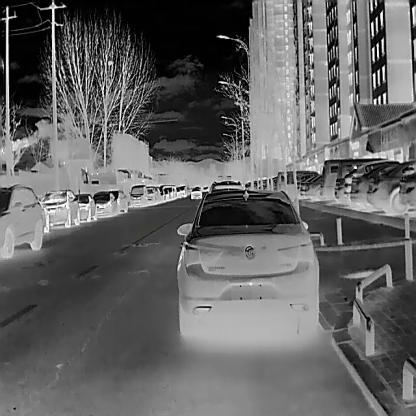car: (178, 184, 321, 339), (0, 186, 45, 259), (367, 160, 416, 215), (350, 163, 400, 203), (41, 189, 80, 227), (320, 158, 337, 196), (92, 193, 117, 216), (75, 194, 96, 220), (129, 185, 147, 207), (300, 176, 321, 194), (111, 190, 127, 212), (146, 185, 160, 204), (191, 186, 202, 199)
